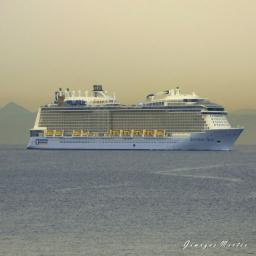cruises: (27, 83, 246, 155)
